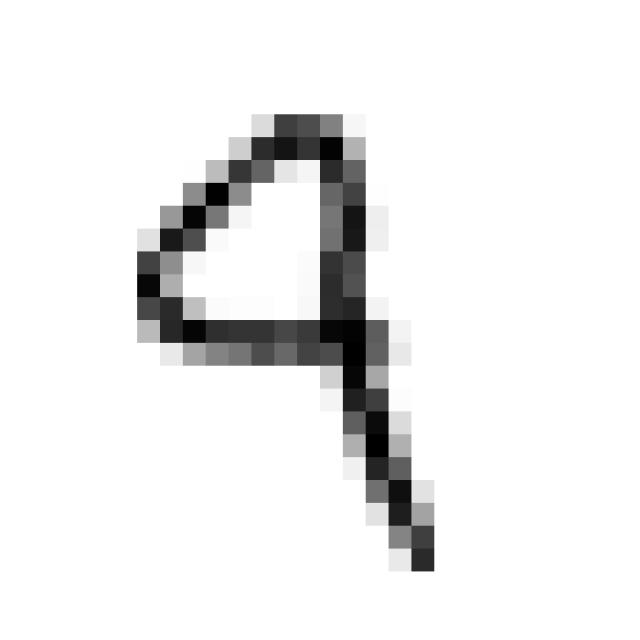9 -nine-: (114, 91, 458, 596)
